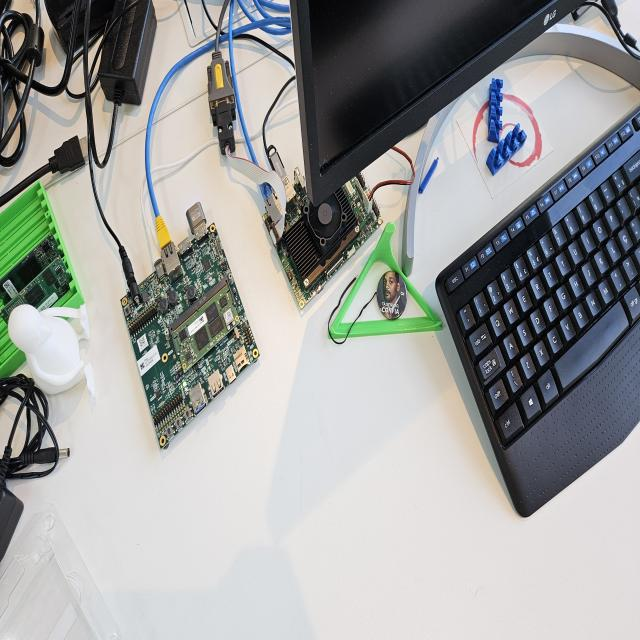som: (5, 244, 79, 346), (172, 275, 243, 376), (2, 223, 58, 309)
